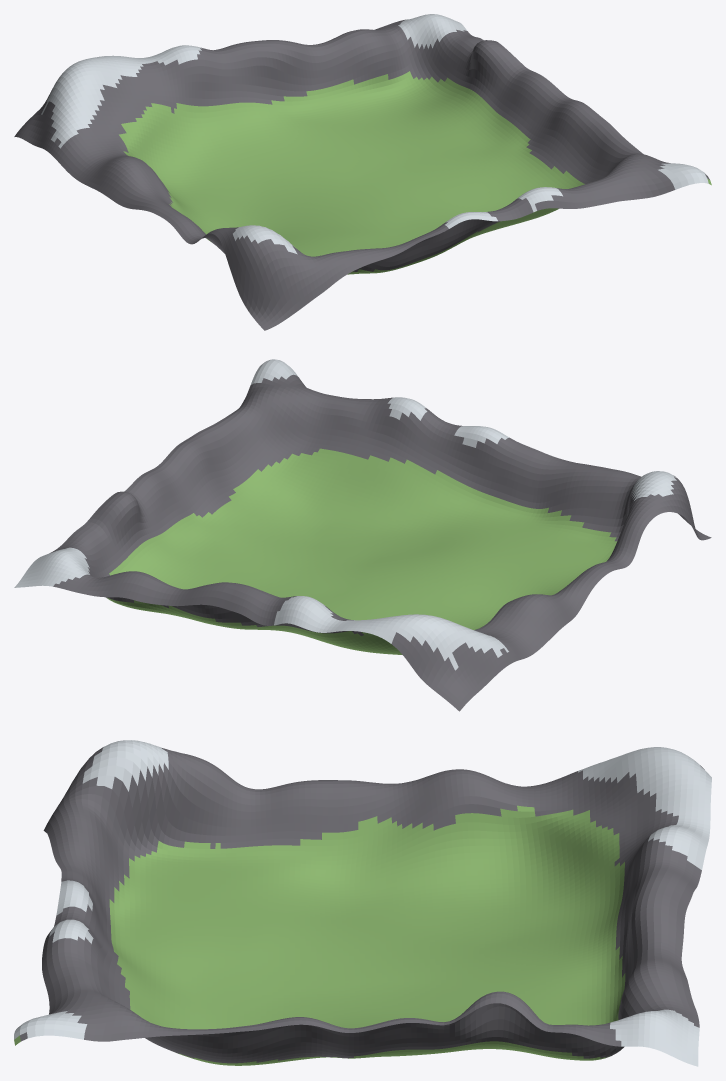
Rendered from map_01.glb.
3 renders of one model, top to bottom at view 1: azimuth 30°, elevation 25°; view 2: azimuth 150°, elevation 25°; view 3: azimuth 270°, elevation 25°, orthographic. The views are drawn at different scales.
Parts seen in each view (by area): view 1: Plane-col; view 2: Plane-col; view 3: Plane-col.
Boxes of the visible parts, bbox=[...] form: Plane-col: bbox=[14, 14, 711, 330]; Plane-col: bbox=[14, 359, 711, 711]; Plane-col: bbox=[14, 740, 711, 1066].
Size of the model in its own units: 424 by 87.64 by 432.
